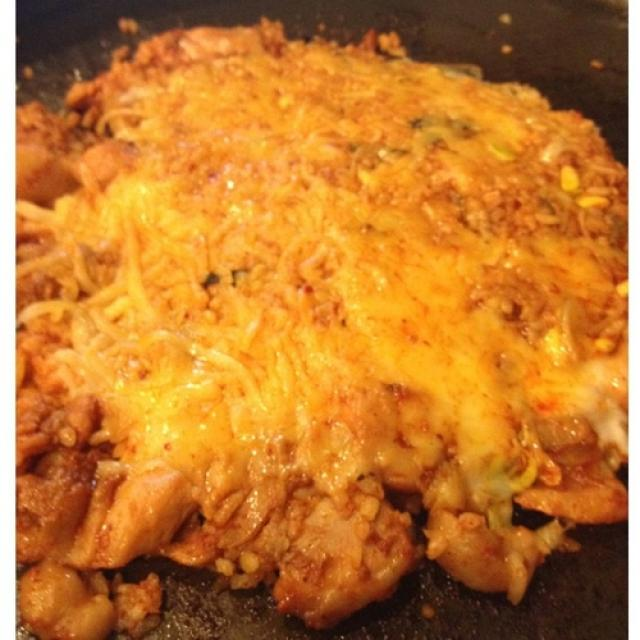鸡肉料理 含炸鸡: (19, 8, 627, 636)
